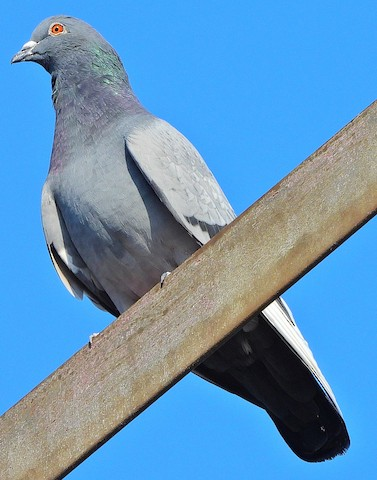pigeon: (5, 12, 354, 466)
